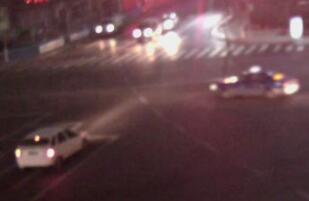car: (14, 124, 87, 173), (208, 64, 300, 102), (92, 12, 123, 35), (130, 15, 158, 40), (158, 11, 181, 32)
